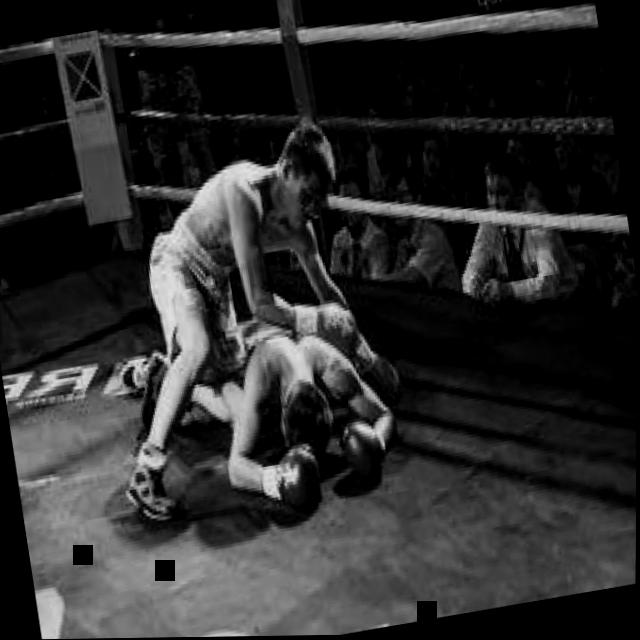Fall-Detected: (166, 253, 424, 537)
